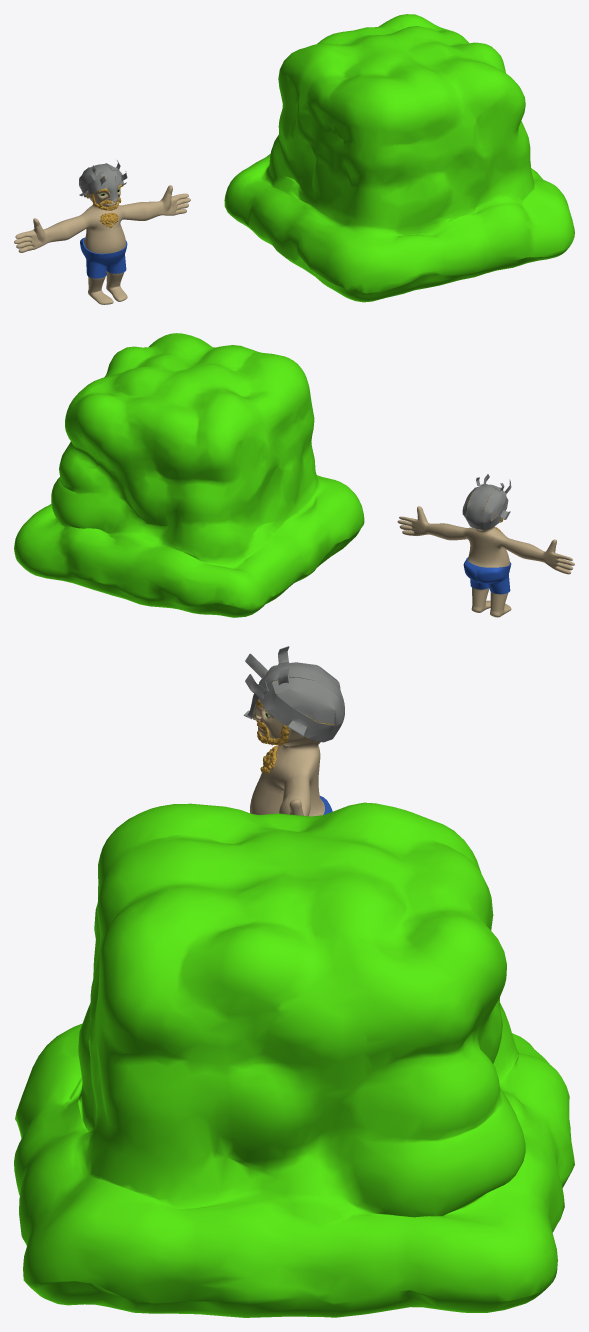
Rendered from homonid.glb.
3 views of the same model, one above another, from view 1: azimuth 30°, elevation 25°; view 2: azimuth 150°, elevation 25°; view 3: azimuth 270°, elevation 25° (orthographic). The views are drawn at different scales.
Visible parts, largest first — view 1: slime, homonid, homonid-helmet, homonid-shorts, homonid-hair; view 2: slime, homonid, homonid-helmet, homonid-shorts; view 3: slime, homonid-helmet, homonid, homonid-hair.
Boxes of the visible parts, left/top/right/bottom form: slime: left=224, top=14, right=574, bottom=302; homonid: left=14, top=184, right=190, bottom=304; homonid-helmet: left=79, top=160, right=127, bottom=201; homonid-shorts: left=80, top=237, right=127, bottom=278; homonid-hair: left=80, top=174, right=122, bottom=227; slime: left=14, top=333, right=364, bottom=617; homonid: left=397, top=506, right=574, bottom=617; homonid-helmet: left=462, top=474, right=511, bottom=529; homonid-shorts: left=463, top=557, right=511, bottom=594; slime: left=14, top=802, right=574, bottom=1317; homonid-helmet: left=243, top=646, right=344, bottom=742; homonid: left=249, top=698, right=324, bottom=816; homonid-hair: left=256, top=672, right=334, bottom=774.
Size of the model in its own units: 6.91 by 2.42 by 3.39.
Materials: 6 (1 with a texture image).
